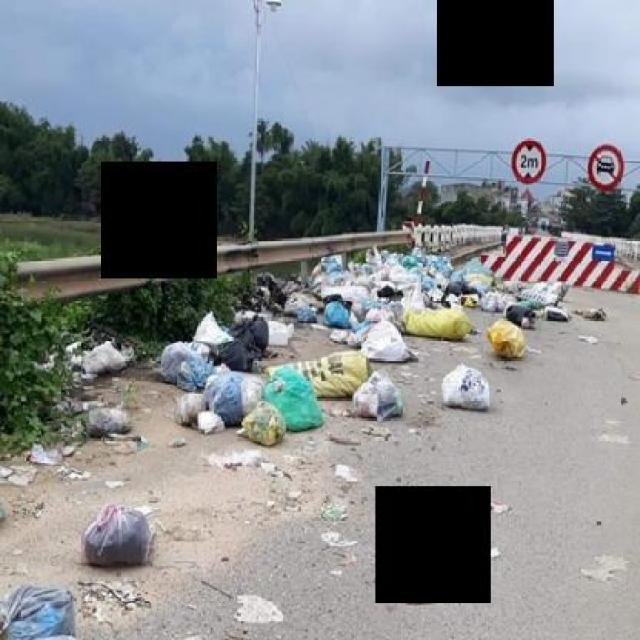plastic bag: (279, 242, 623, 363), (147, 334, 330, 454), (72, 495, 156, 568), (0, 580, 88, 638), (197, 368, 275, 415), (262, 366, 320, 426), (362, 317, 429, 366), (192, 308, 271, 343), (442, 360, 491, 414), (348, 371, 403, 417), (400, 304, 472, 338), (230, 589, 288, 626), (80, 400, 137, 437), (486, 320, 528, 369), (200, 445, 272, 472), (81, 334, 128, 374), (322, 298, 356, 328)
